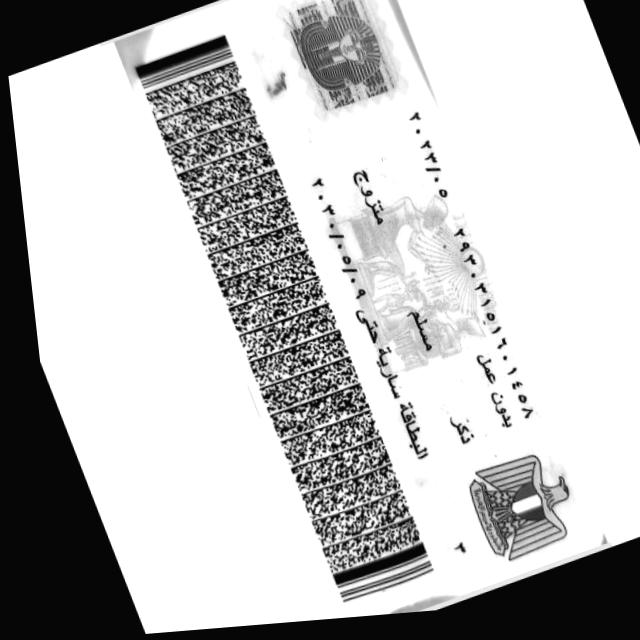back: (105, 0, 611, 631)
